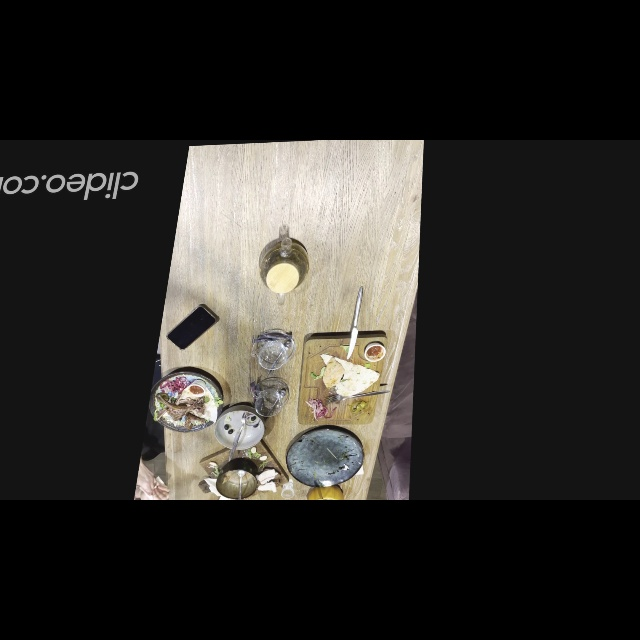Том Ям(пустая тарелка): (192, 433, 295, 500)
закуска(пустая тарелка): (292, 331, 392, 430)
мясо(пустая тарелка): (141, 368, 230, 436)
салат цезарь: (210, 402, 269, 452)
салат(пустая тарелка): (281, 424, 369, 492)
сырный суп(пустая тарелка): (304, 482, 348, 500)
